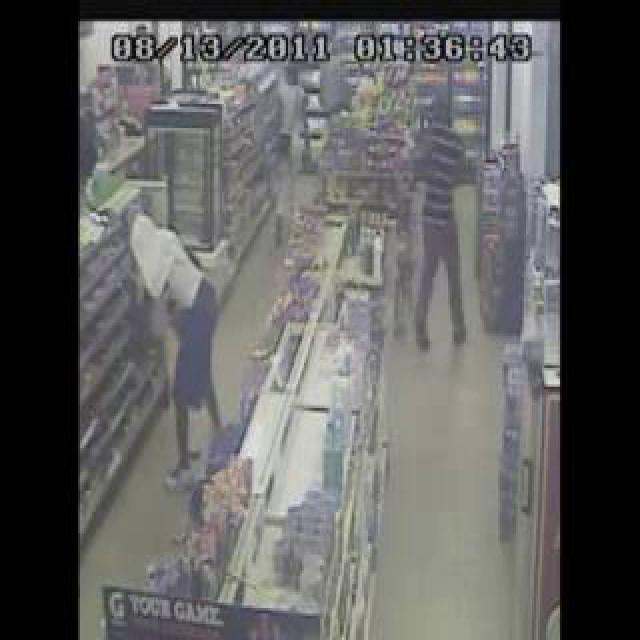burglary: (118, 82, 487, 464)
